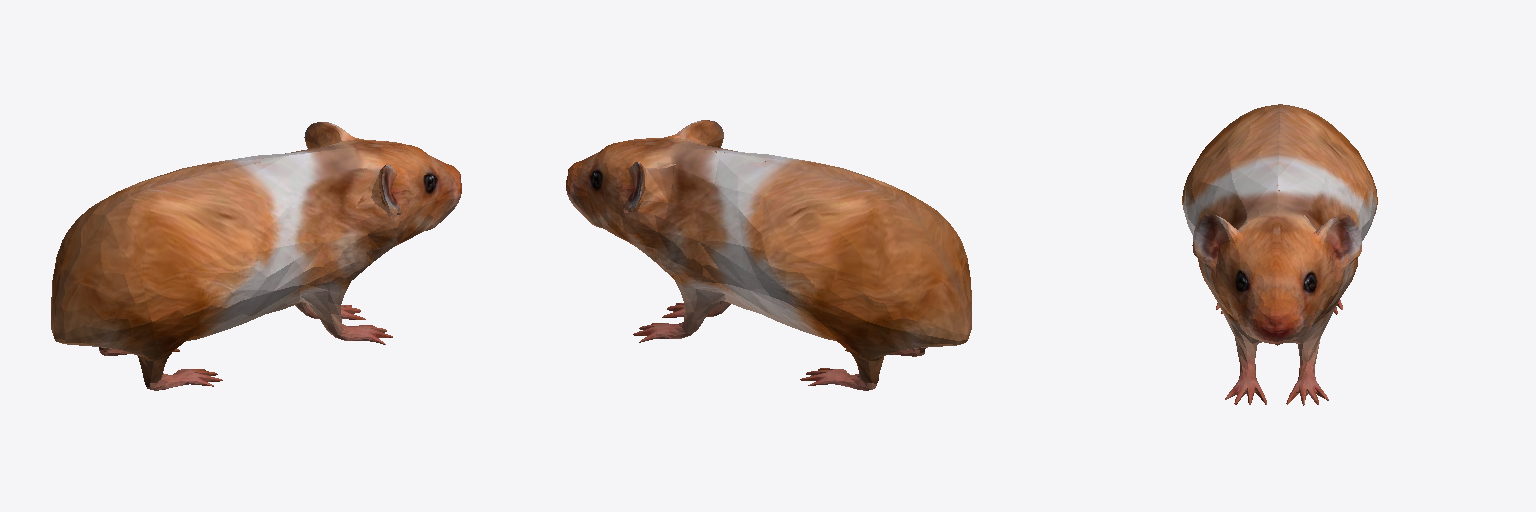
The picture shows the model from 3 angles: view 1: azimuth 30°, elevation 25°; view 2: azimuth 150°, elevation 25°; view 3: azimuth 270°, elevation 25°; orthographic projection.
Parts seen in each view (by area): view 1: Hamster_fbx; view 2: Hamster_fbx; view 3: Hamster_fbx.
Part boxes in pixels (x1,y1,x2,y2): Hamster_fbx: (51, 122, 461, 390); Hamster_fbx: (566, 120, 971, 390); Hamster_fbx: (1182, 104, 1377, 405).
Size of the model in its own units: 5.95 by 2.66 by 2.51.
1 materials, 1 textured.